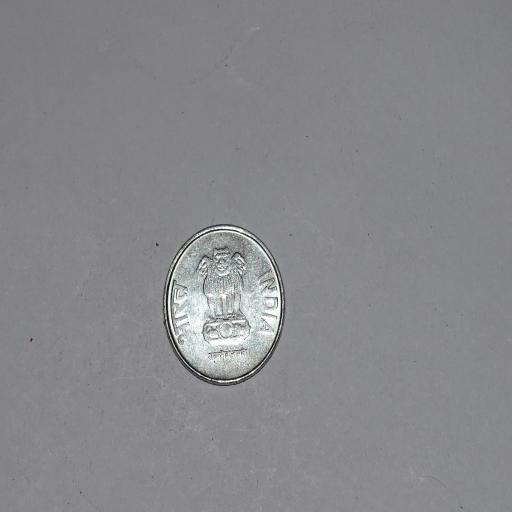rupee1: (161, 222, 289, 386)
